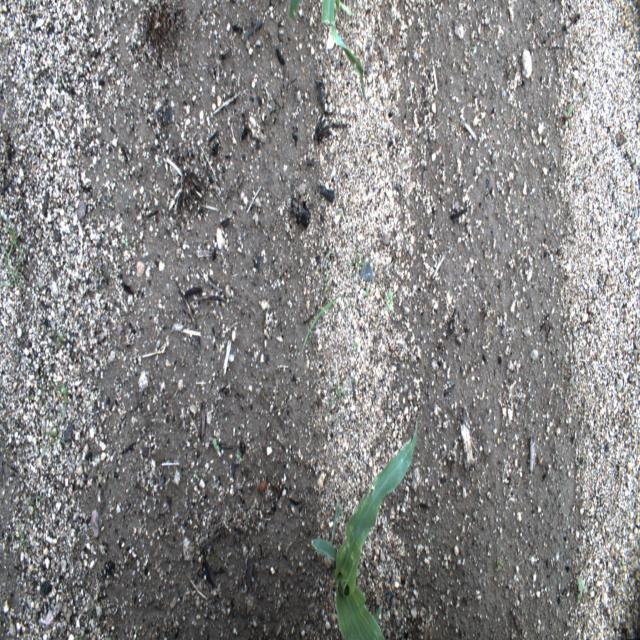crop: (311, 424, 417, 640), (288, 0, 369, 104)
weed: (301, 293, 352, 353), (321, 379, 357, 418), (40, 414, 72, 456), (348, 237, 367, 290), (1, 254, 27, 290), (3, 218, 24, 262), (323, 249, 337, 294), (52, 381, 68, 417), (560, 101, 574, 131), (576, 575, 588, 604), (52, 327, 65, 353), (26, 496, 47, 511), (384, 289, 395, 313), (12, 530, 23, 552), (568, 364, 578, 388), (85, 602, 97, 618), (211, 435, 221, 454), (211, 552, 220, 565), (362, 284, 369, 298), (351, 339, 358, 351), (235, 453, 243, 463), (33, 45, 40, 56), (496, 558, 502, 570), (57, 74, 62, 88), (122, 238, 128, 248), (193, 472, 199, 481), (156, 160, 161, 168)
